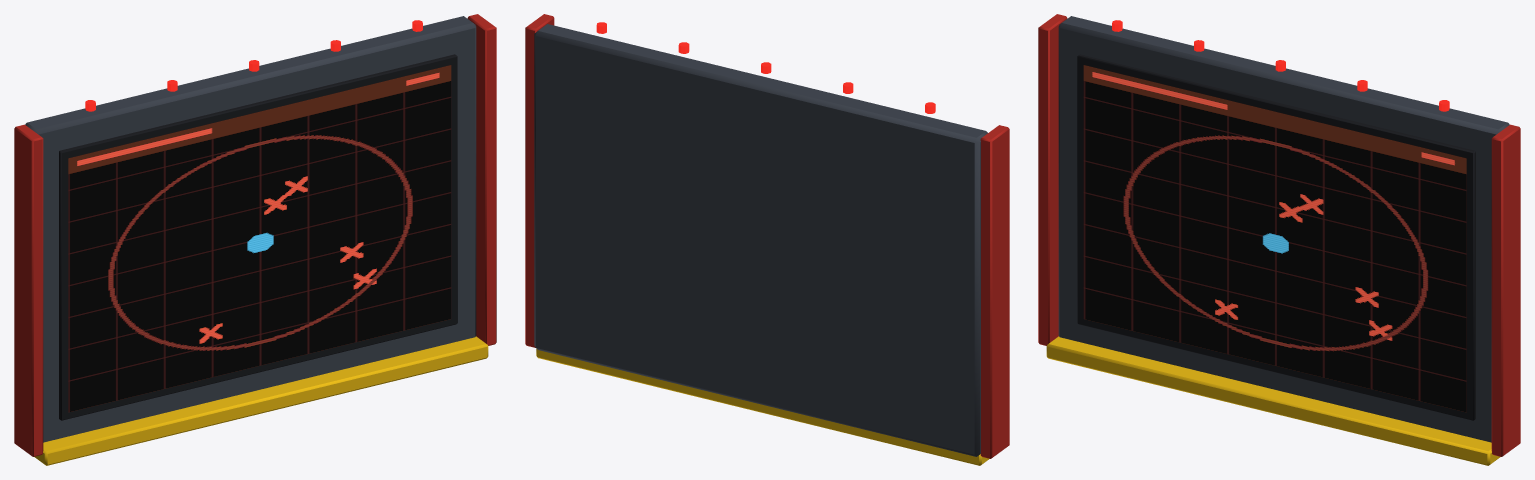
The model's file is display_tactical_wall_screen.glb.
The picture shows the model from 3 angles, left to right: view 1: azimuth 30°, elevation 25°; view 2: azimuth 150°, elevation 25°; view 3: azimuth 330°, elevation 25°; orthographic projection.
Parts seen in each view (by area): view 1: display_tactical_wall_screen; view 2: display_tactical_wall_screen; view 3: display_tactical_wall_screen.
Boxes of the visible parts, <box> form: display_tactical_wall_screen: <box>14,14,496,465</box>; display_tactical_wall_screen: <box>525,14,1009,465</box>; display_tactical_wall_screen: <box>1038,14,1520,465</box>.
Size of the model in its own units: 1.99 by 1.39 by 0.18.
Materials: 6 (1 with a texture image).
